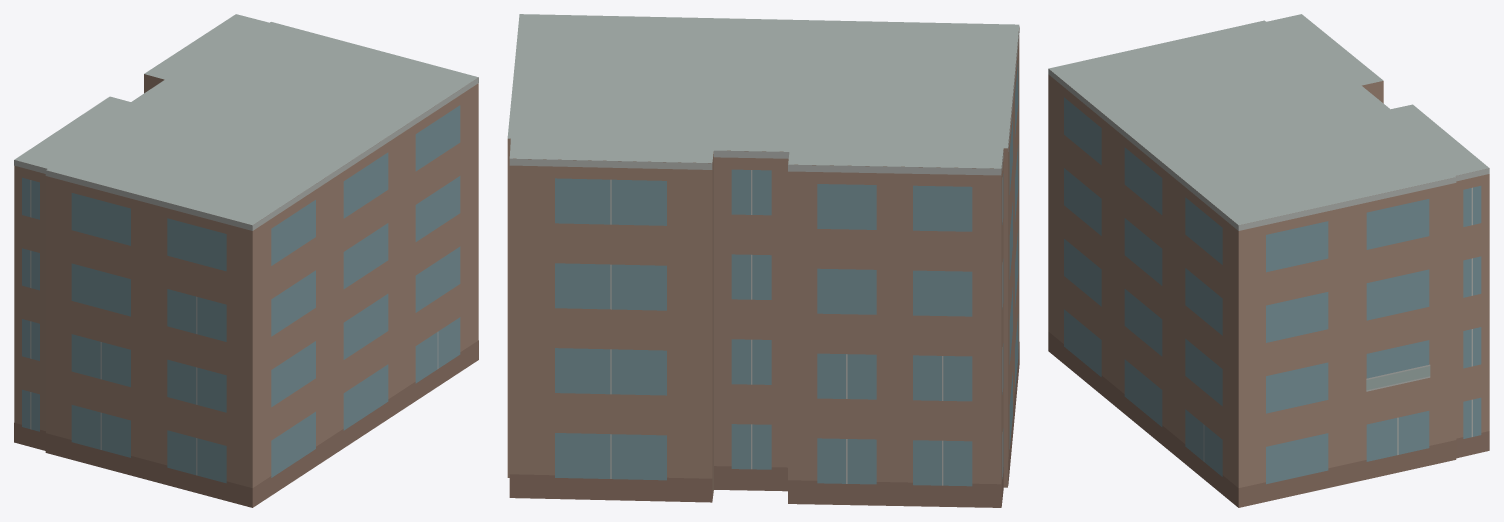
Rendered from survey-upis-32822711.glb.
The picture shows the model from 3 angles, left to right: view 1: azimuth 30°, elevation 25°; view 2: azimuth 150°, elevation 25°; view 3: azimuth 270°, elevation 25°; orthographic projection. The views are drawn at different scales.
Visible parts, largest first — view 1: survey-upis-32822711.tmp; view 2: survey-upis-32822711.tmp; view 3: survey-upis-32822711.tmp.
Boxes of the visible parts, x1=… form: survey-upis-32822711.tmp: x1=14, y1=14, x2=478, y2=507; survey-upis-32822711.tmp: x1=507, y1=14, x2=1019, y2=507; survey-upis-32822711.tmp: x1=1048, y1=14, x2=1489, y2=507.
Bounding box in the file's own units: 19.25 × 12 × 16.99.
